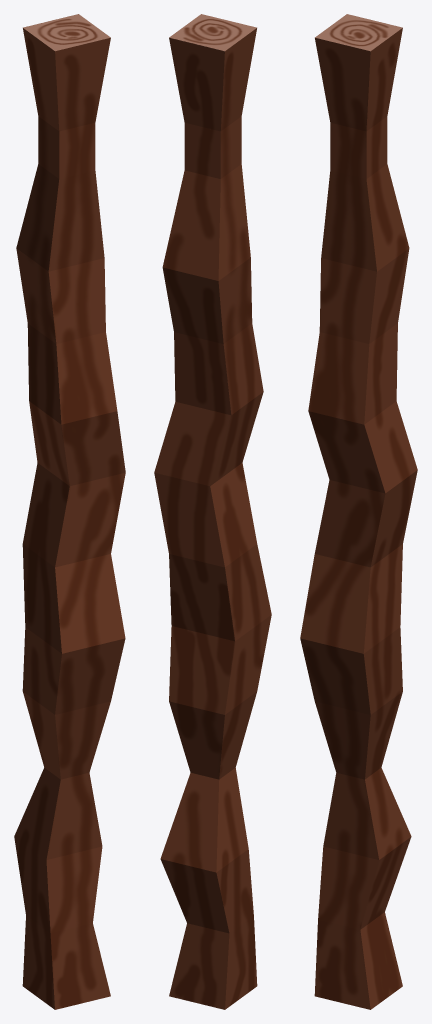
File: palico.fbx
The picture shows the model from 3 angles, left to right: view 1: azimuth 30°, elevation 25°; view 2: azimuth 150°, elevation 25°; view 3: azimuth 330°, elevation 25°; orthographic projection.
Visible parts, largest first — view 1: Cube; view 2: Cube; view 3: Cube.
Part boxes in pixels (bbox=[...]): Cube: bbox=[14, 14, 125, 1009]; Cube: bbox=[154, 14, 271, 1009]; Cube: bbox=[300, 14, 417, 1009].
Size of the model in its own units: 32.96 by 405 by 39.49.
